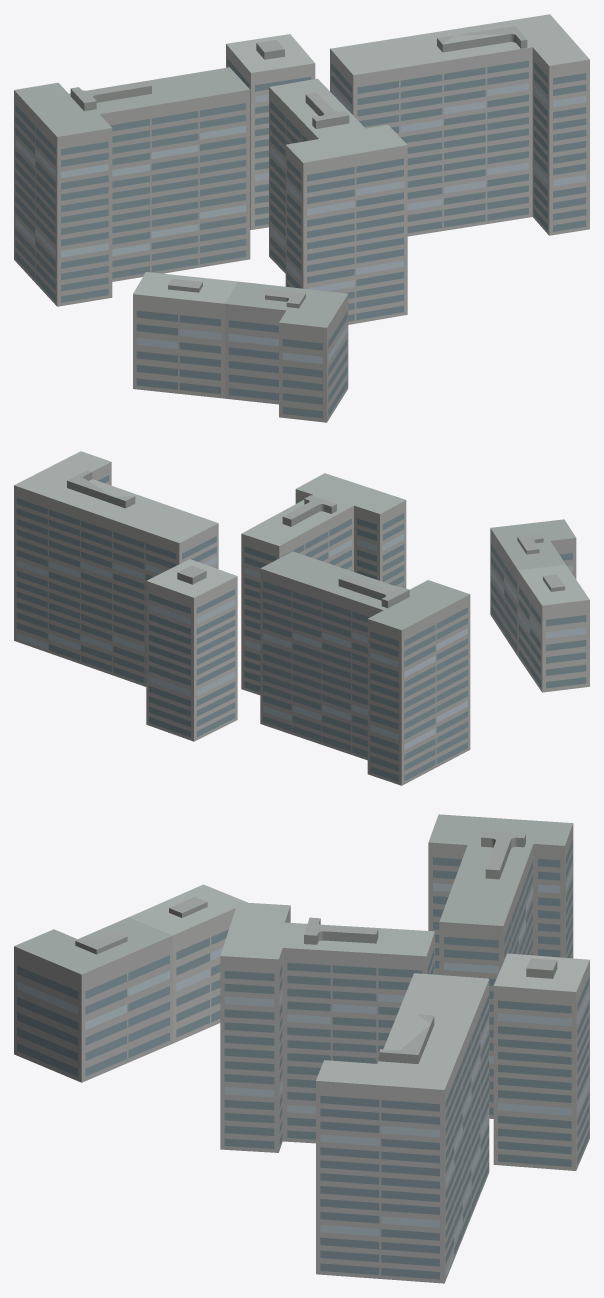
File: apt-a12013001.glb
3 views of the same model, one above another, from view 1: azimuth 30°, elevation 25°; view 2: azimuth 150°, elevation 25°; view 3: azimuth 270°, elevation 25° (orthographic). The views are drawn at different scales.
Parts seen in each view (by area): view 1: apt-a12013001; view 2: apt-a12013001; view 3: apt-a12013001.
Part boxes in pixels (left/top/right/bottom): apt-a12013001: left=14, top=14, right=589, bottom=422; apt-a12013001: left=14, top=451, right=589, bottom=785; apt-a12013001: left=14, top=814, right=589, bottom=1283.
Bounding box in the file's own units: 123 × 40 × 103.
